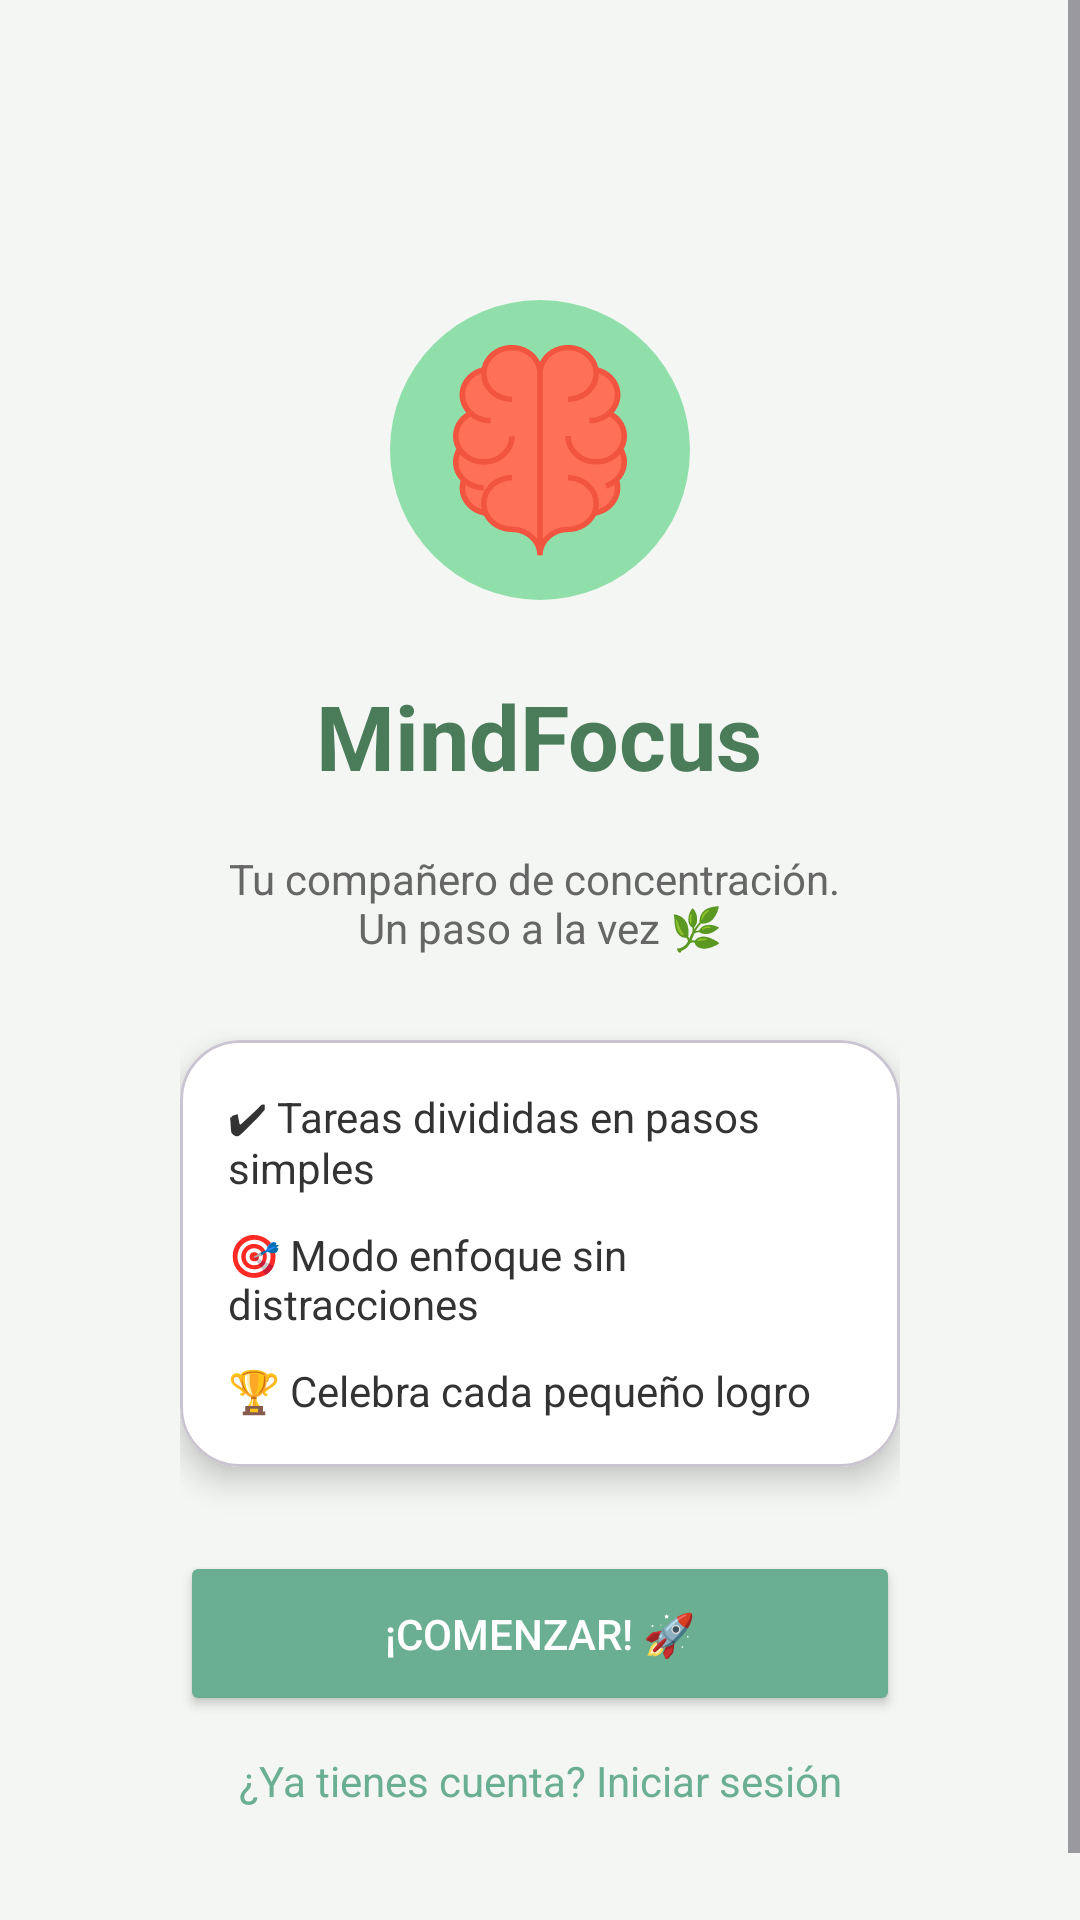

Locate icon controls on the screen. Image size 1080×1920, boxes as (x1, y1, x2, y2).
brain: (390, 300, 690, 600)
